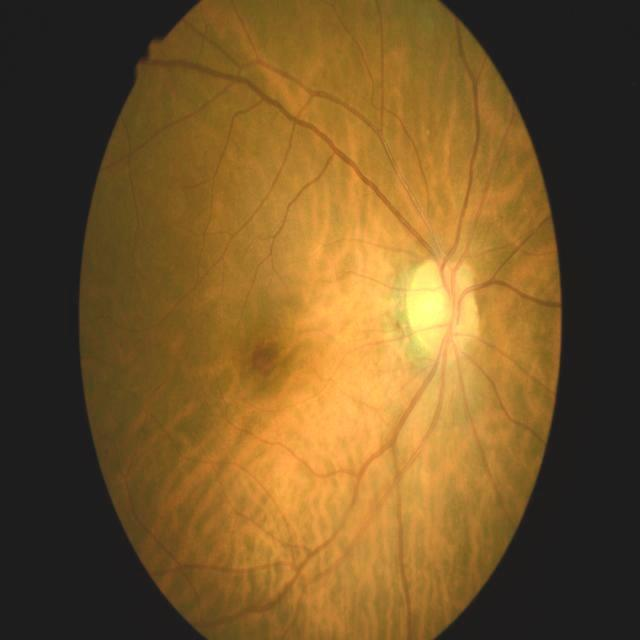cup: (419, 283, 457, 327)
disk: (407, 258, 480, 362)
